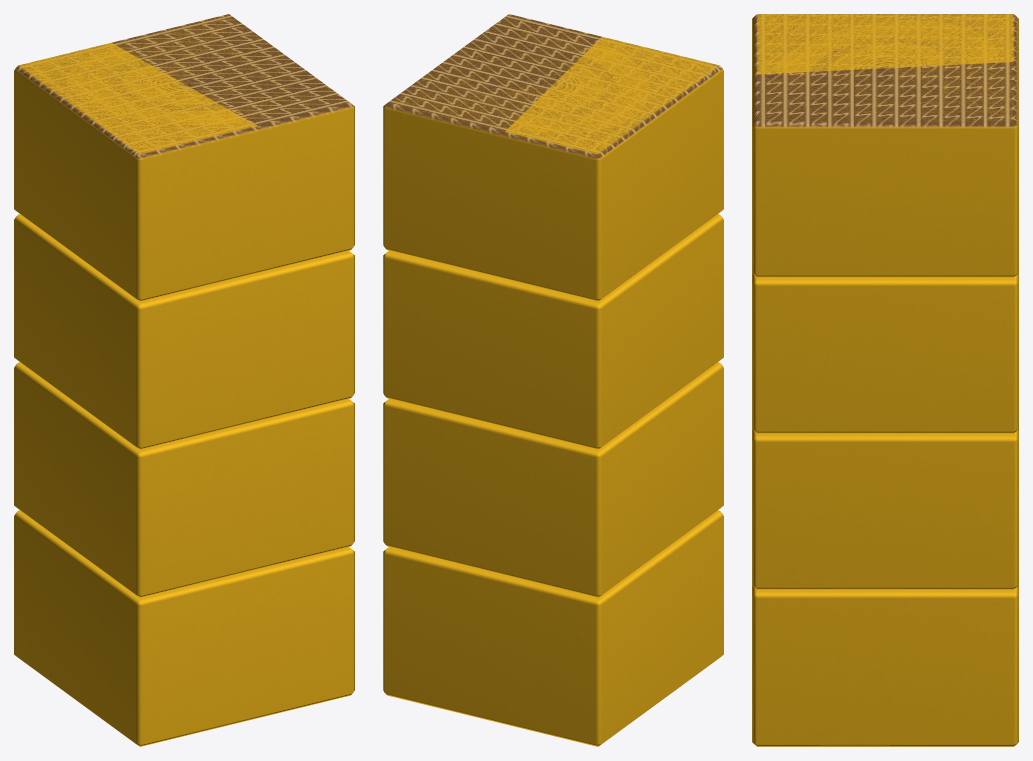
Rendered from 34-posts-front-left.fbx.
The picture shows the model from 3 angles, left to right: view 1: azimuth 30°, elevation 25°; view 2: azimuth 150°, elevation 25°; view 3: azimuth 270°, elevation 25°; orthographic projection. The views are drawn at different scales.
Visible parts, largest first — view 1: posts-front-left; view 2: posts-front-left; view 3: posts-front-left.
Boxes of the visible parts, <box> form: posts-front-left: <box>14,14,354,746</box>; posts-front-left: <box>383,14,723,746</box>; posts-front-left: <box>752,14,1018,746</box>.
Bounding box in the file's own units: 2400 × 6200 × 2400.
1 material, 1 textured.
